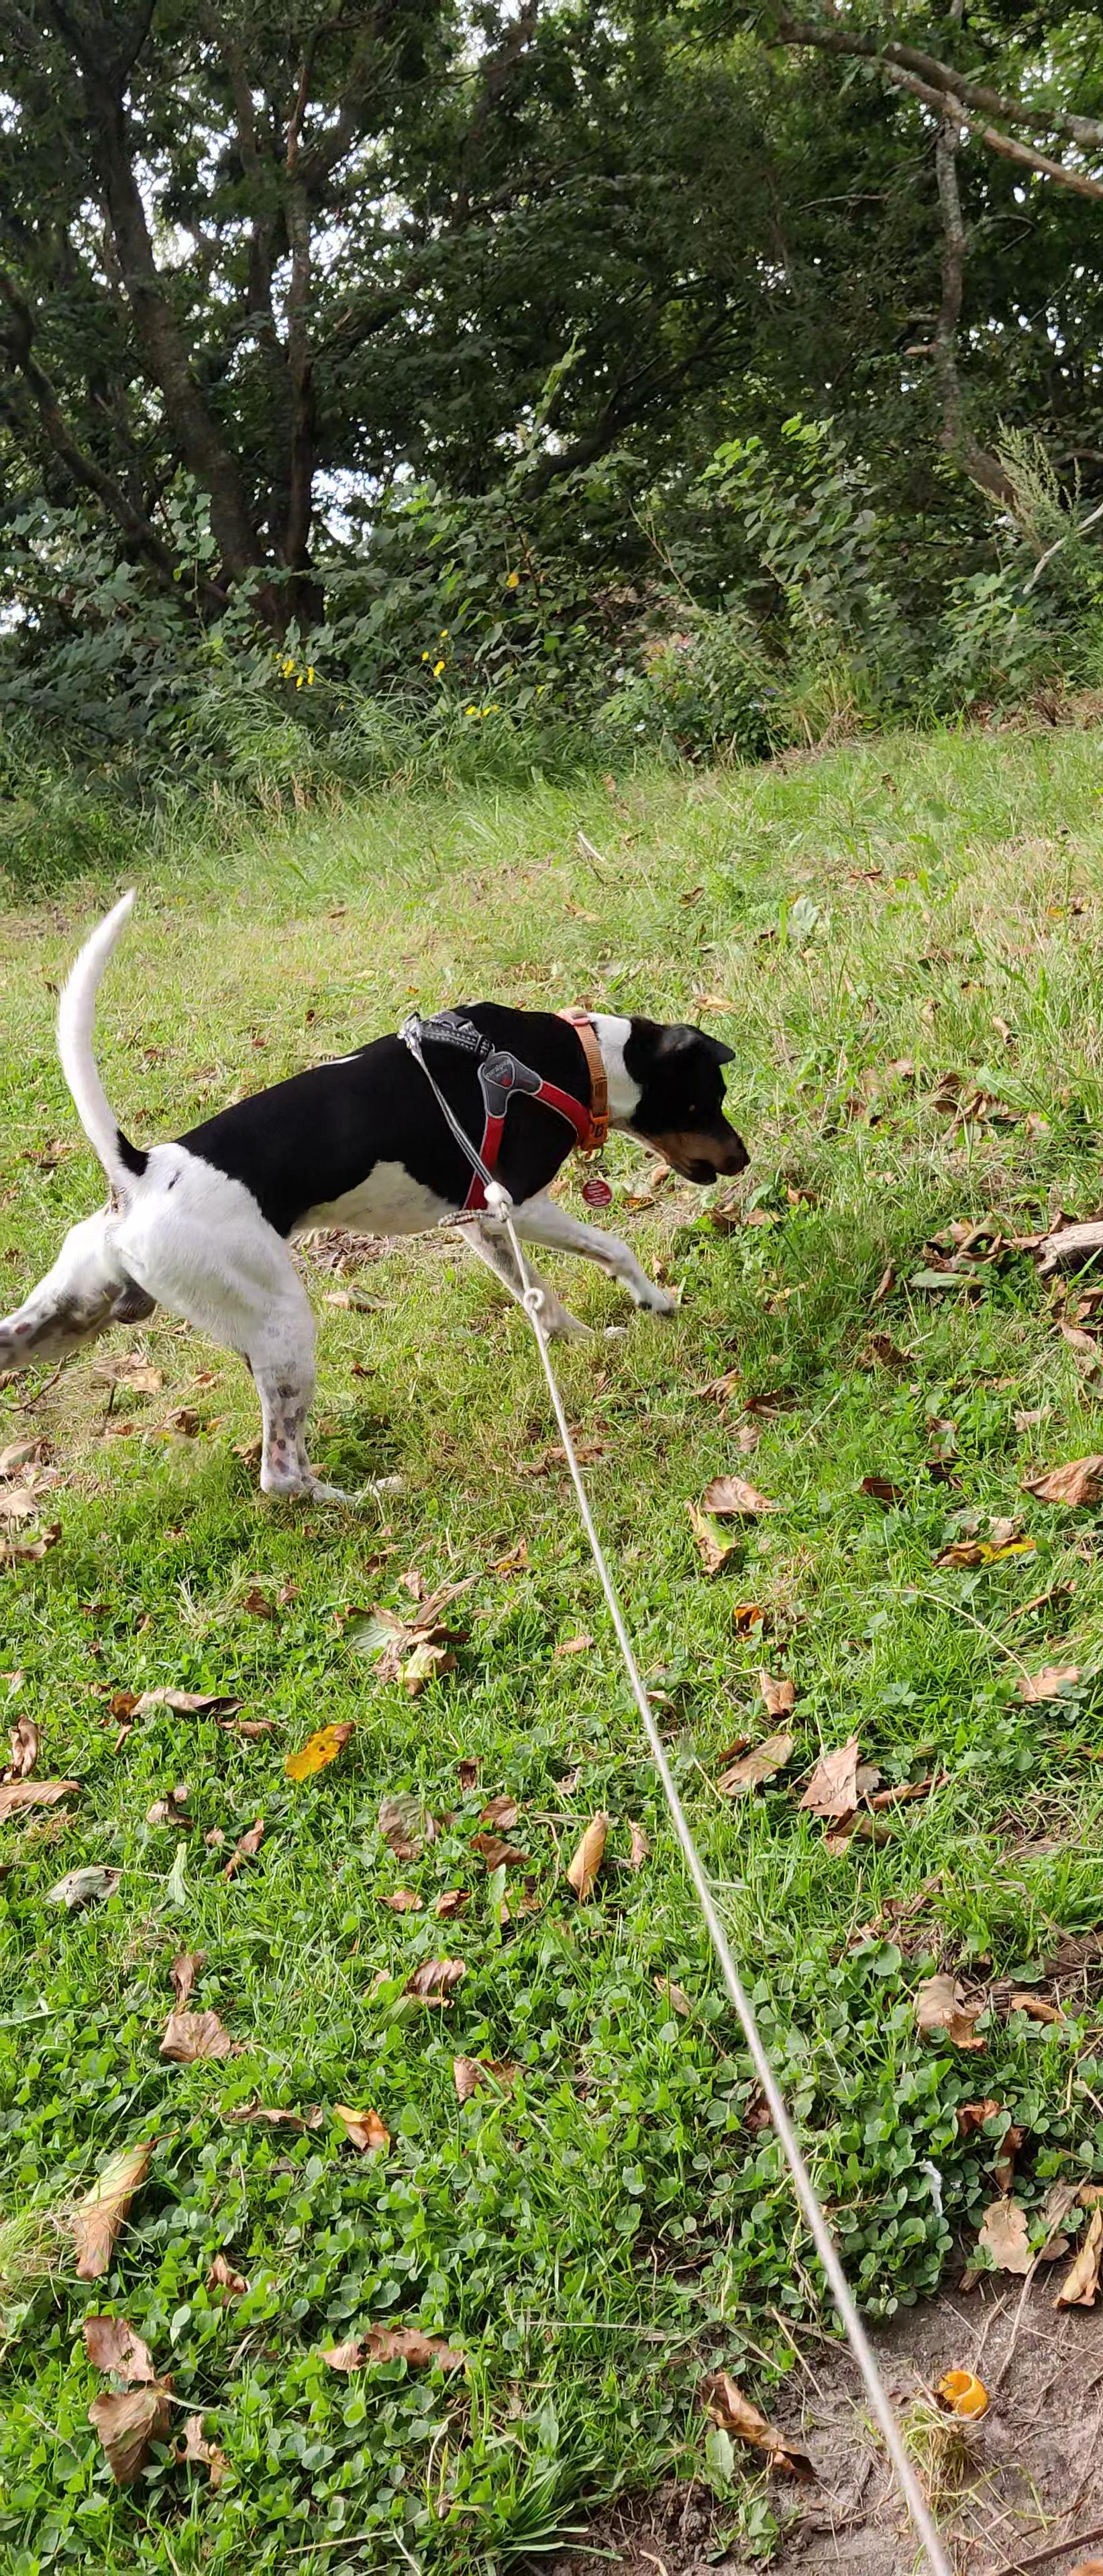Dog: (0, 881, 756, 1523)
